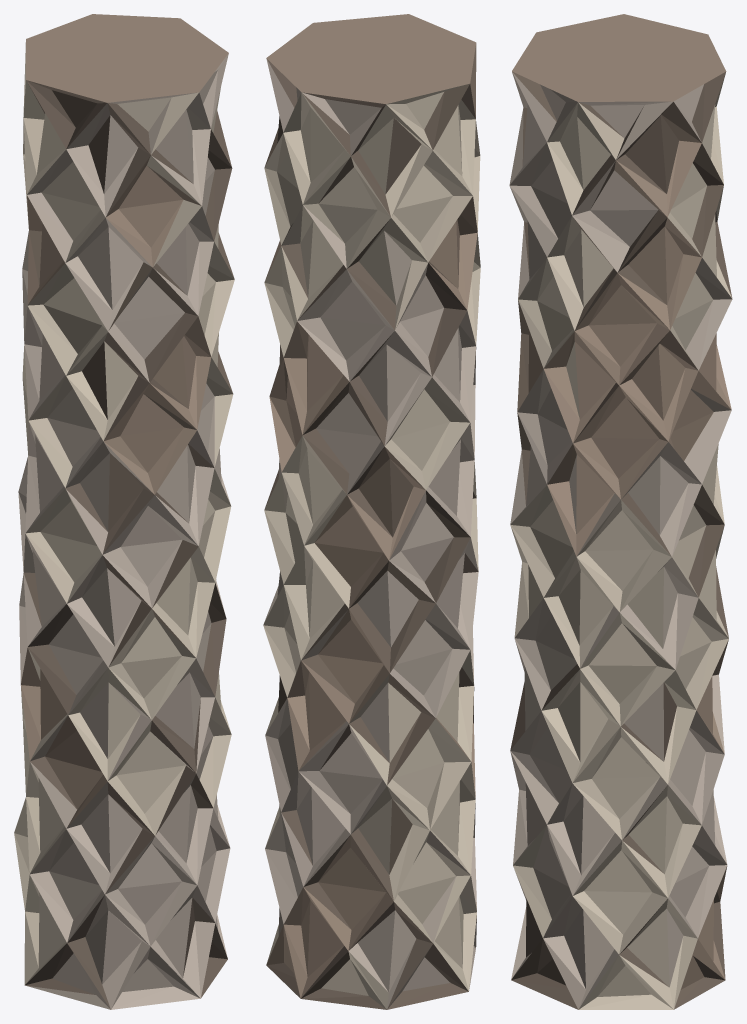
Rendered from RG-Dungeon_Column-03.fbx.
The picture shows the model from 3 angles, left to right: view 1: azimuth 30°, elevation 25°; view 2: azimuth 150°, elevation 25°; view 3: azimuth 270°, elevation 25°; orthographic projection.
Visible parts, largest first — view 1: RG-Dungeon_Column-03; view 2: RG-Dungeon_Column-03; view 3: RG-Dungeon_Column-03.
Part boxes in pixels (<box>): RG-Dungeon_Column-03: <box>14,14,234,1009</box>; RG-Dungeon_Column-03: <box>263,14,480,1009</box>; RG-Dungeon_Column-03: <box>509,14,732,1009</box>.
Bounding box in the file's own units: 3.42 × 16 × 3.56.
